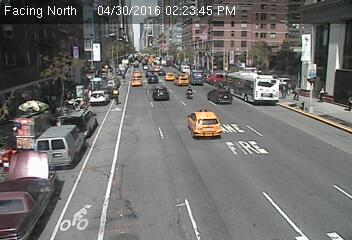neg: (316, 27, 331, 47), (53, 80, 67, 99), (69, 83, 83, 102), (93, 88, 107, 106), (144, 88, 155, 102), (223, 50, 234, 64)
pos: (317, 87, 330, 105), (294, 84, 306, 100), (279, 84, 290, 99)
